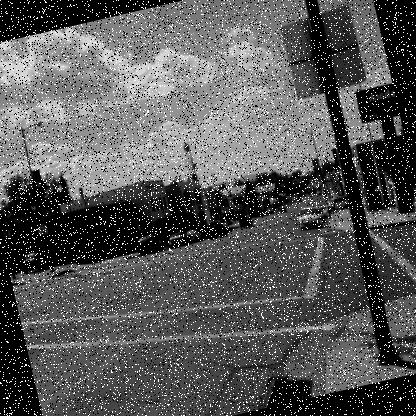Car: (297, 206, 328, 230), (18, 251, 48, 275), (134, 232, 166, 254), (205, 219, 228, 242), (168, 232, 187, 246), (240, 214, 255, 227), (186, 231, 202, 242)
